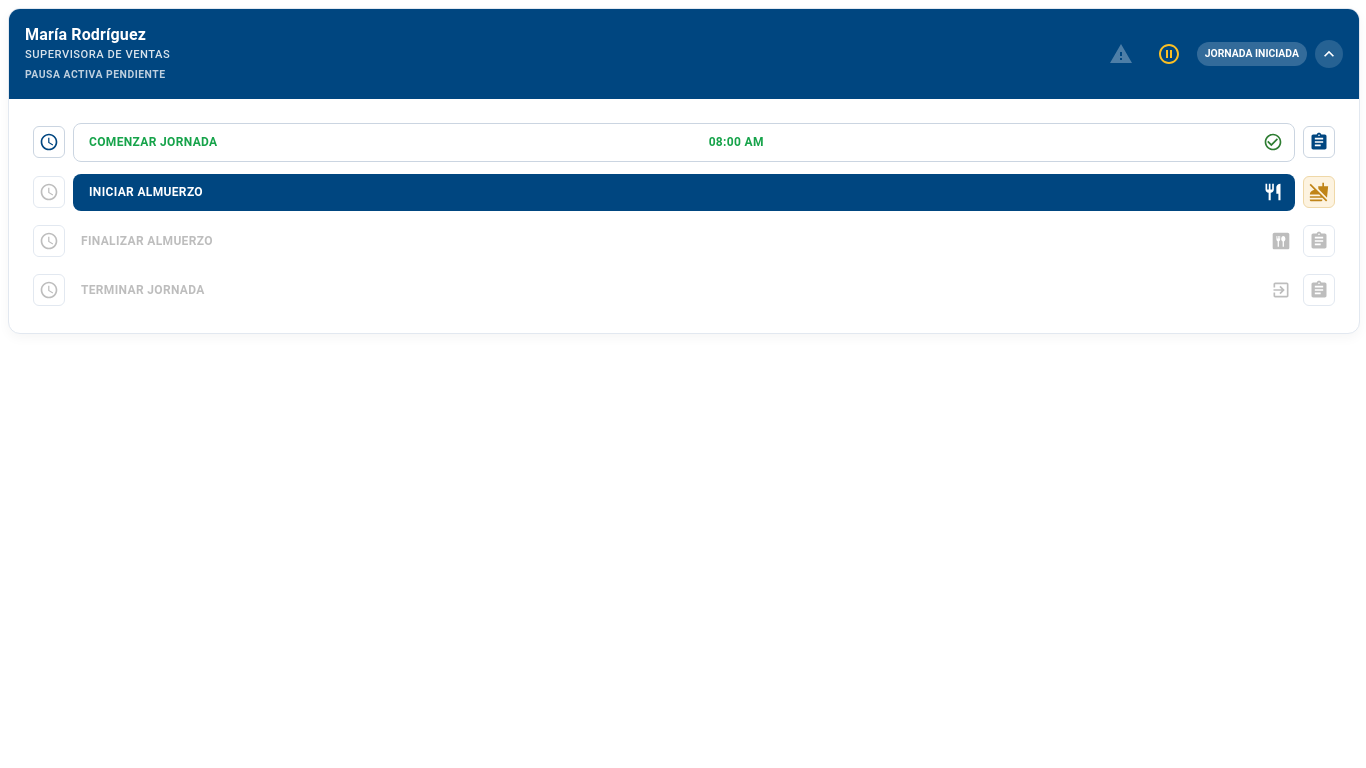
EmployeeCard › opens OmitirAlmuerzoModal when Sin Almuerzo button is clicked
What coordinates should you click on to do the following:
click the button with test id "NoFoodIcon"
I would click on:
 (1319, 192)
Its box is [1303,176,1335,208].
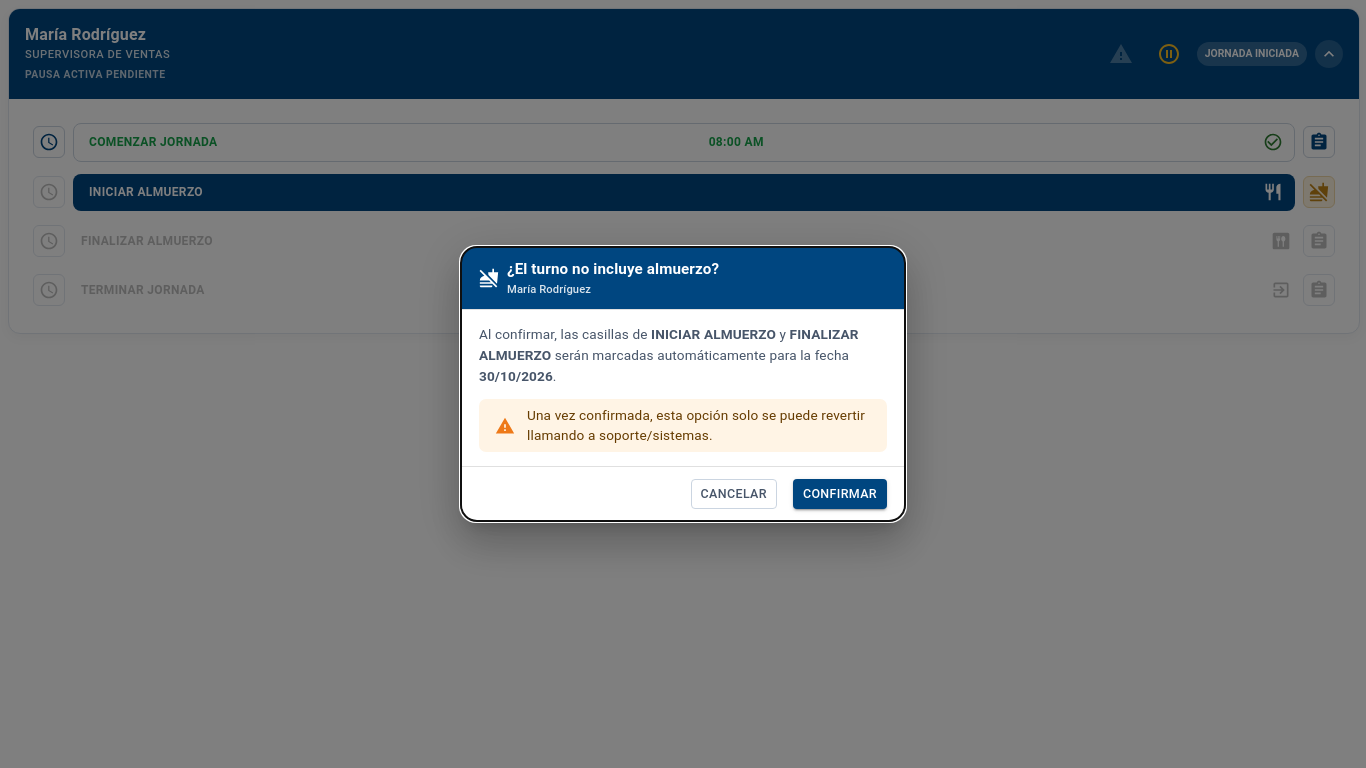
Check: the text "¿El turno no incluye almuerzo?" is shown, box [507,257,719,281]
